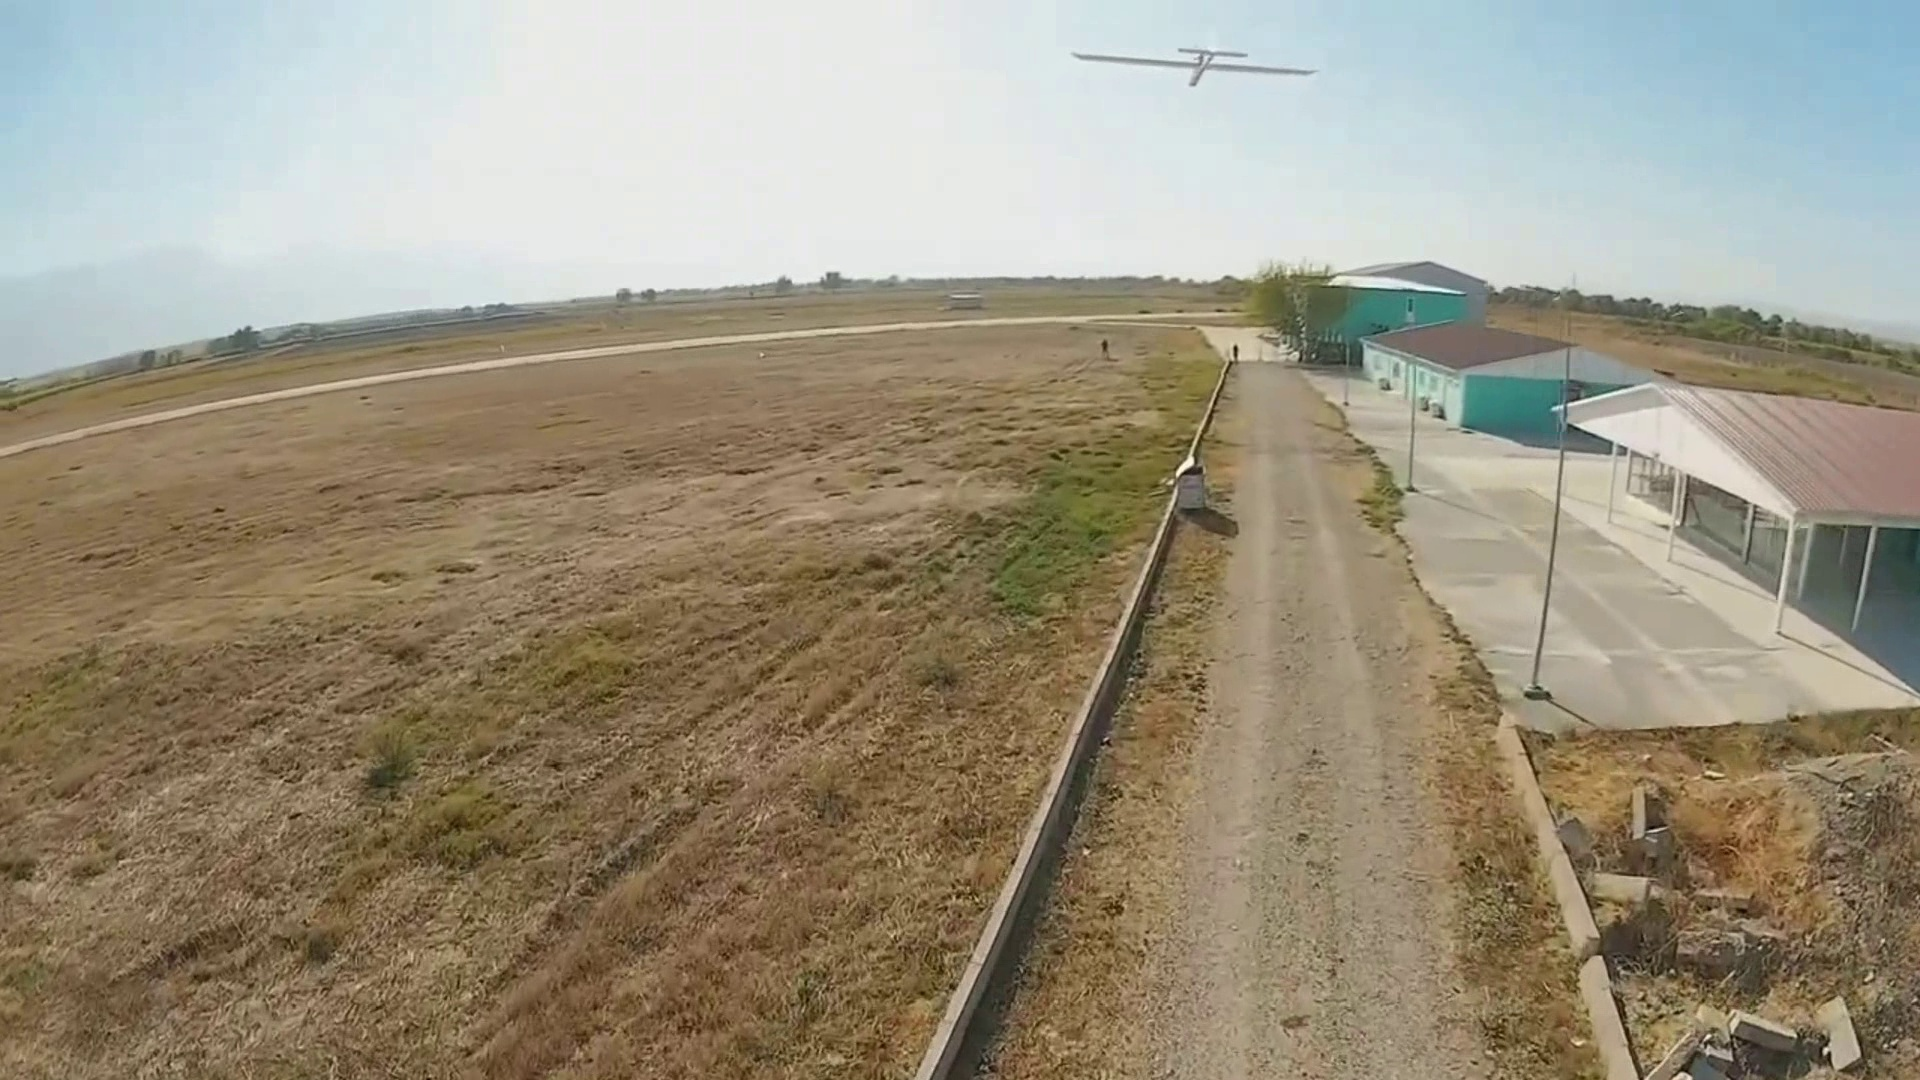airplane: (1065, 44, 1321, 88)
